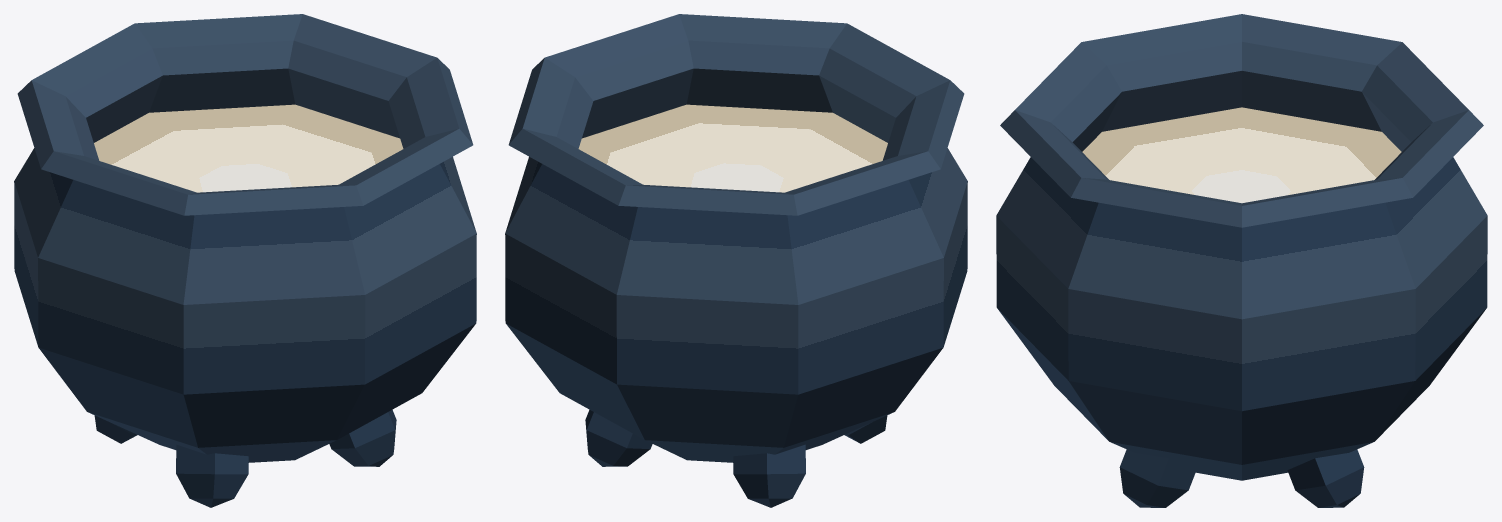
The model's file is Kettle.fbx.
The picture shows the model from 3 angles, left to right: view 1: azimuth 30°, elevation 25°; view 2: azimuth 150°, elevation 25°; view 3: azimuth 270°, elevation 25°; orthographic projection. The views are drawn at different scales.
Visible parts, largest first — view 1: Kettle, Liquid; view 2: Kettle, Liquid; view 3: Kettle, Liquid.
Boxes of the visible parts, box(x1,y1,x2,y2) form: Kettle: box(14, 14, 476, 507); Liquid: box(94, 104, 403, 192); Kettle: box(505, 14, 967, 507); Liquid: box(578, 104, 887, 192); Kettle: box(996, 14, 1487, 507); Liquid: box(1082, 107, 1401, 203).
Bounding box in the file's own units: 185 × 148 × 185.
